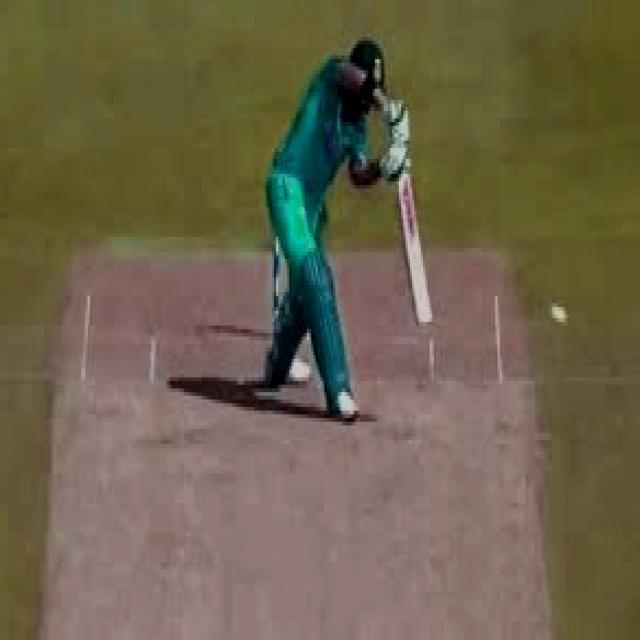bat: (395, 163, 438, 335)
toe: (418, 312, 441, 329)
